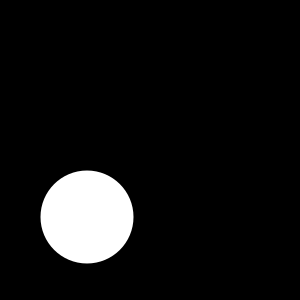rectangle: (40, 170, 133, 264)
